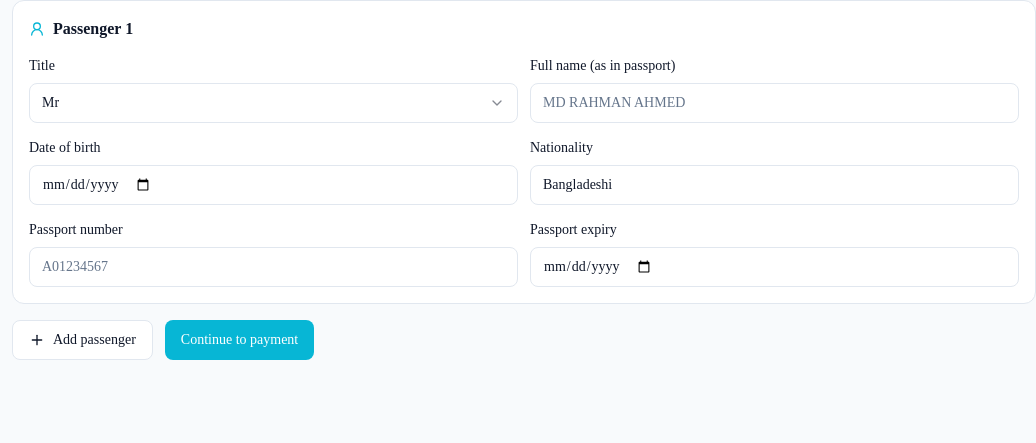
Test: PassengerForm › shows validation errors on an empty submit
The width and height of the screenshot is (1036, 443).
Click the button "Continue to payment" at (240,340), box [165, 320, 314, 360]
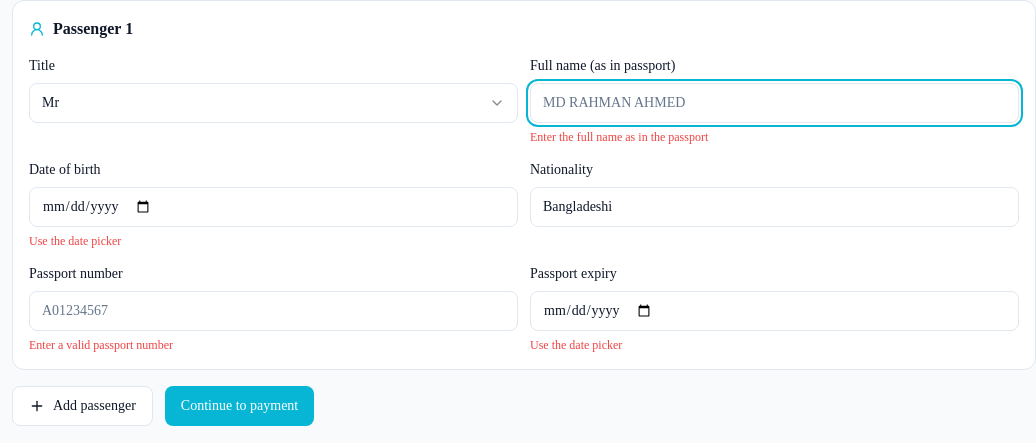
Expected: the text "Enter the full name as in the passport" is shown, [530, 130, 708, 144]
